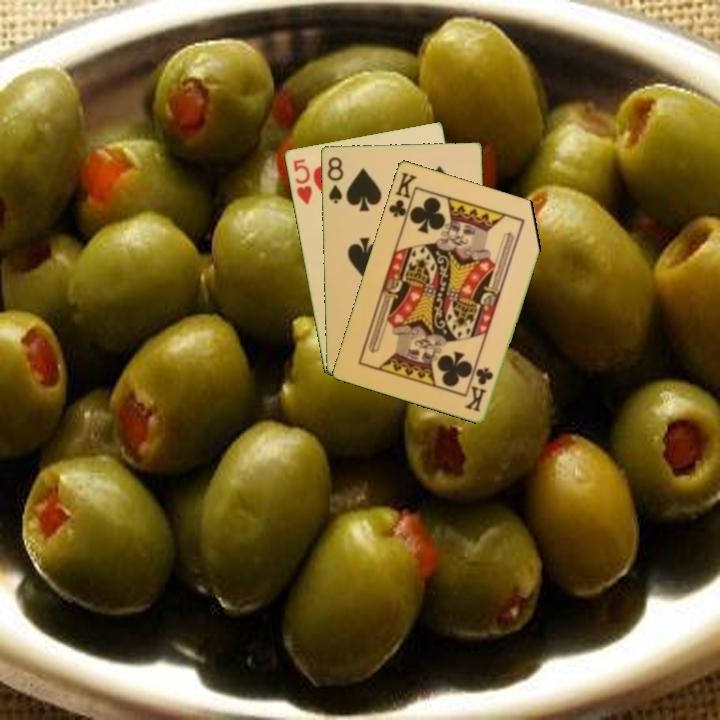5h: (289, 155, 315, 207)
8s: (324, 153, 346, 206)
Kc: (385, 168, 420, 225), (462, 364, 496, 414)
